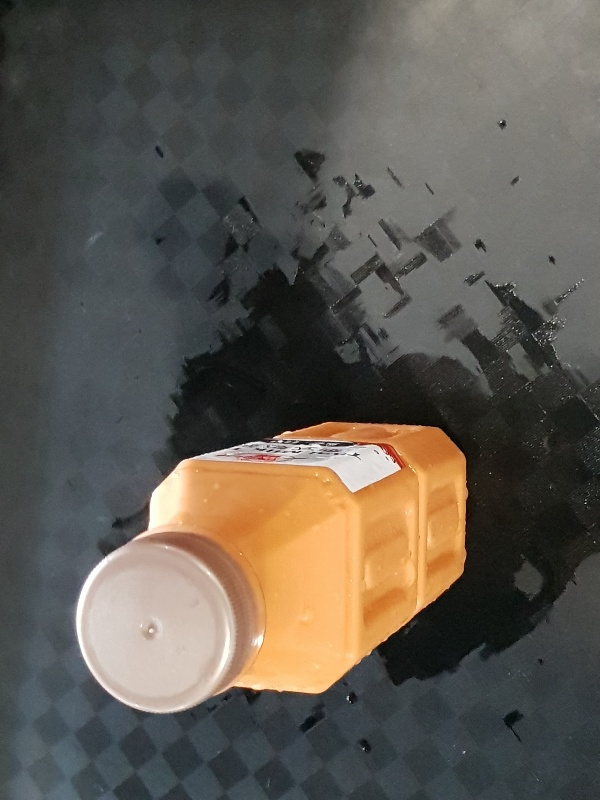Thai Milk Tea: (73, 419, 468, 717)
